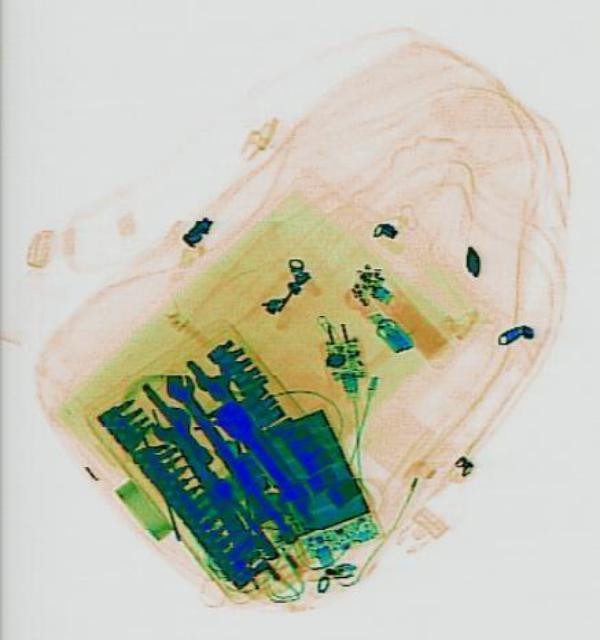Wrench: (156, 363, 302, 547), (141, 396, 276, 576)
